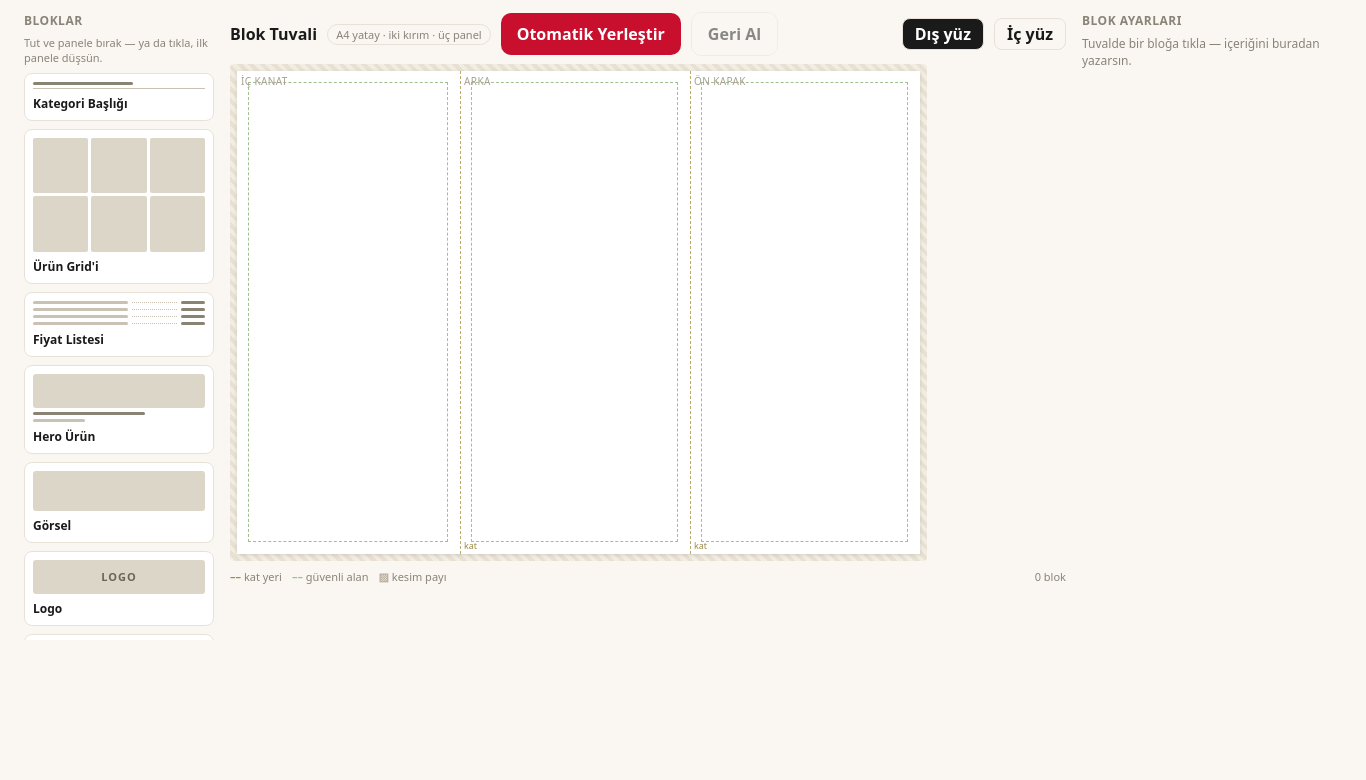
Scenario: Otomatik Yerleştir — açık kullanıcı eylemi › sonuç kullanıcıya bildirilir (sessiz çalışmaz)
What coordinates should you click on to do the following:
click the text "Logo"
I would click on:
 (48, 608)
Its box is [33,600,62,617].
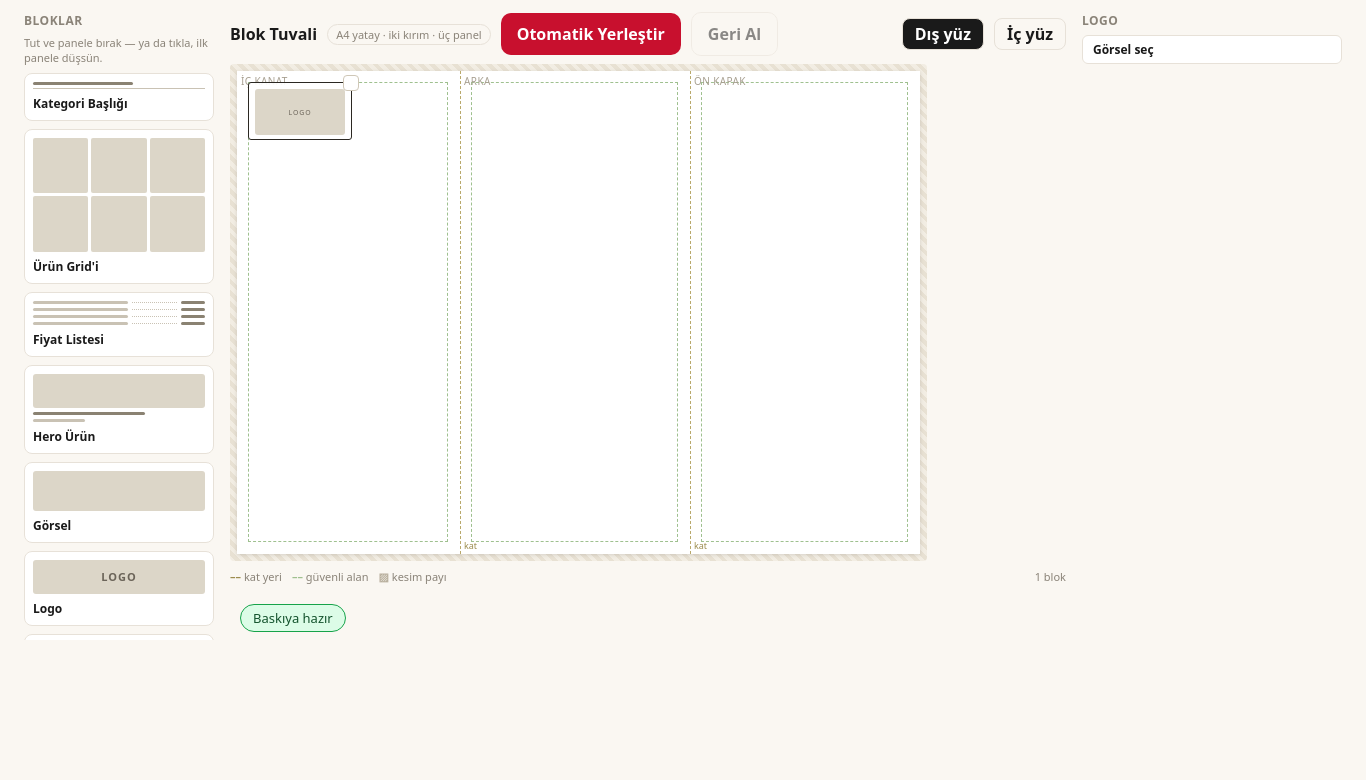
What coordinates should you click on to do the following:
click the button "Otomatik Yerleştir"
I would click on:
 (591, 34)
Its box is [501,13,681,55].
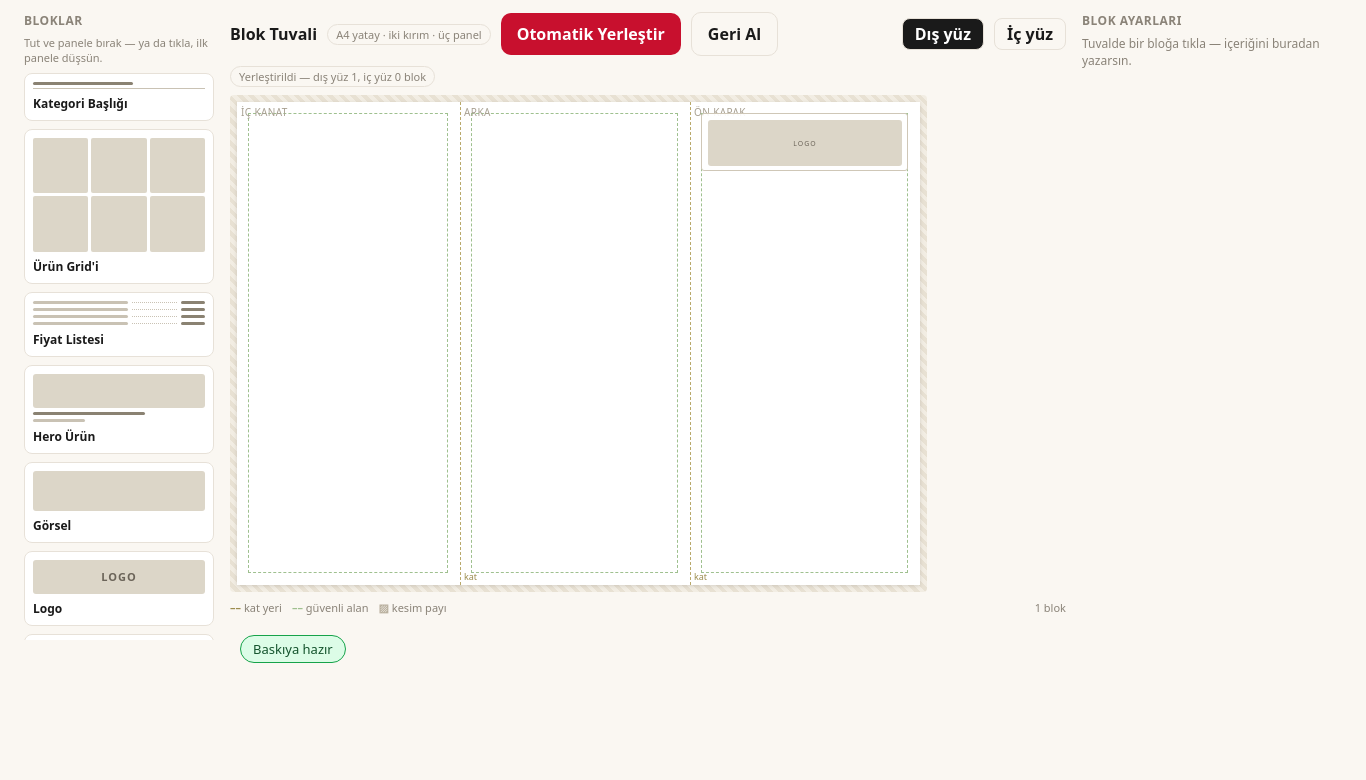
Now the text "Yerleştirildi — dış yüz 1, iç yüz 0 blok" is shown, box [230,66,435,87]
